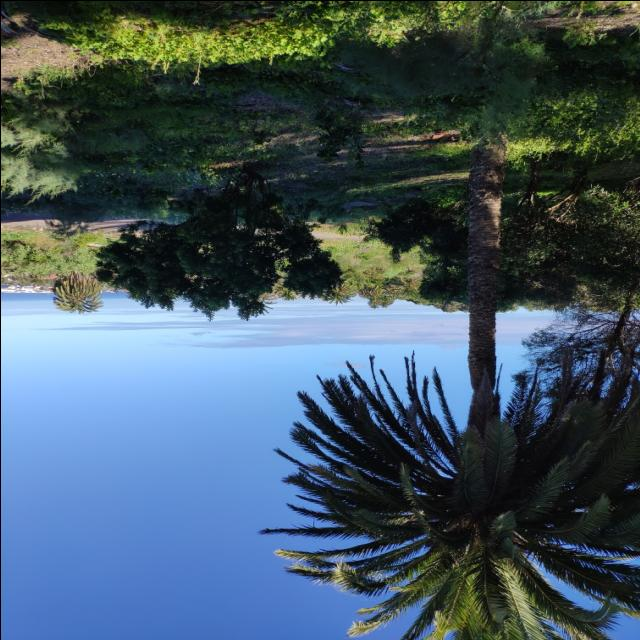Palm-Trees: (277, 138, 640, 640), (45, 273, 101, 314)
